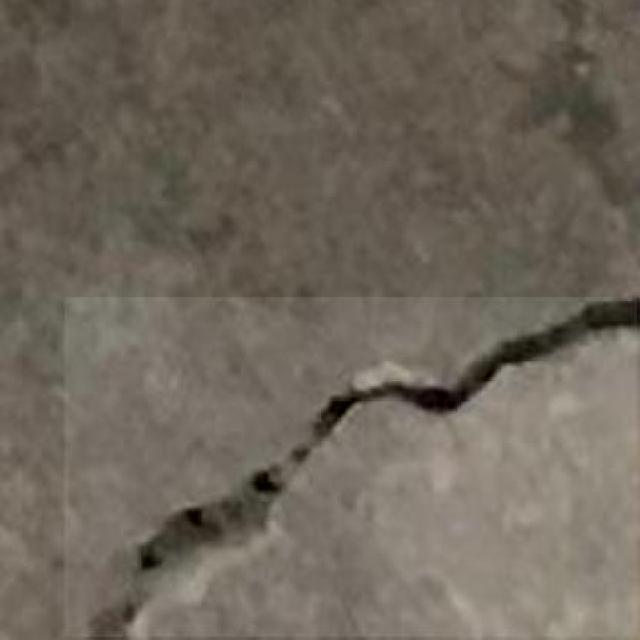crack: (58, 290, 640, 640)
